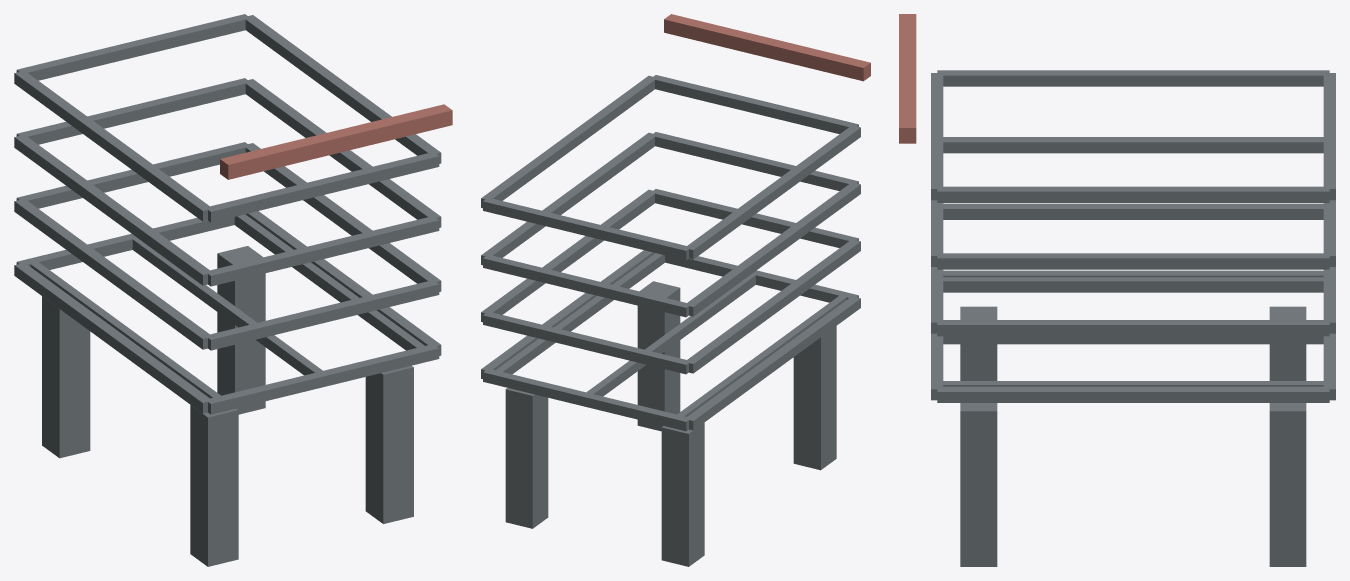
File: shopping_cart.glb
The picture shows the model from 3 angles, left to right: view 1: azimuth 30°, elevation 25°; view 2: azimuth 150°, elevation 25°; view 3: azimuth 270°, elevation 25°; orthographic projection. The views are drawn at different scales.
Visible parts, largest first — view 1: body; view 2: body; view 3: body.
Part boxes in pixels (x1=…): body: x1=14, y1=14, x2=452, y2=566; body: x1=481, y1=14, x2=870, y2=566; body: x1=899, y1=14, x2=1335, y2=566.
Bounding box in the file's own units: 0.585 × 0.9975 × 0.89.
